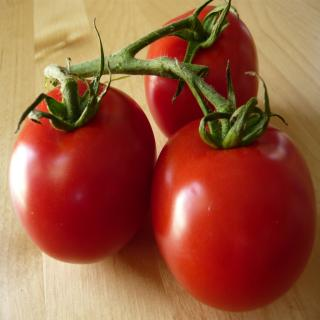tomato: (150, 111, 318, 312), (7, 77, 158, 263), (144, 7, 259, 140)
